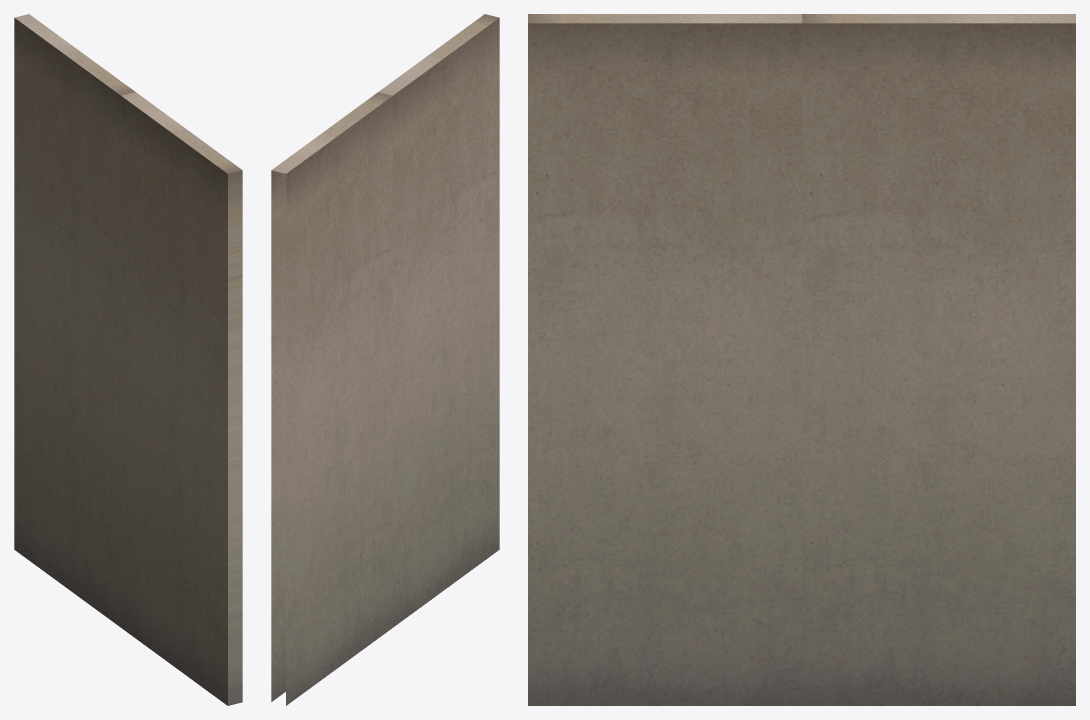
File: Wardenroom_wall3.fbx
3 views of the same model, side by side, from view 1: azimuth 30°, elevation 25°; view 2: azimuth 150°, elevation 25°; view 3: azimuth 270°, elevation 25° (orthographic). The views are drawn at different scales.
Parts seen in each view (by area): view 1: Wardenroomwall_3; view 2: Wardenroomwall_3; view 3: Wardenroomwall_3.
Part boxes in pixels (x1,y1,x2,y2): Wardenroomwall_3: [14, 14, 242, 705]; Wardenroomwall_3: [271, 14, 499, 705]; Wardenroomwall_3: [528, 14, 1075, 705].
Bounding box in the file's own units: 0.2374 × 8.13 × 5.92.
